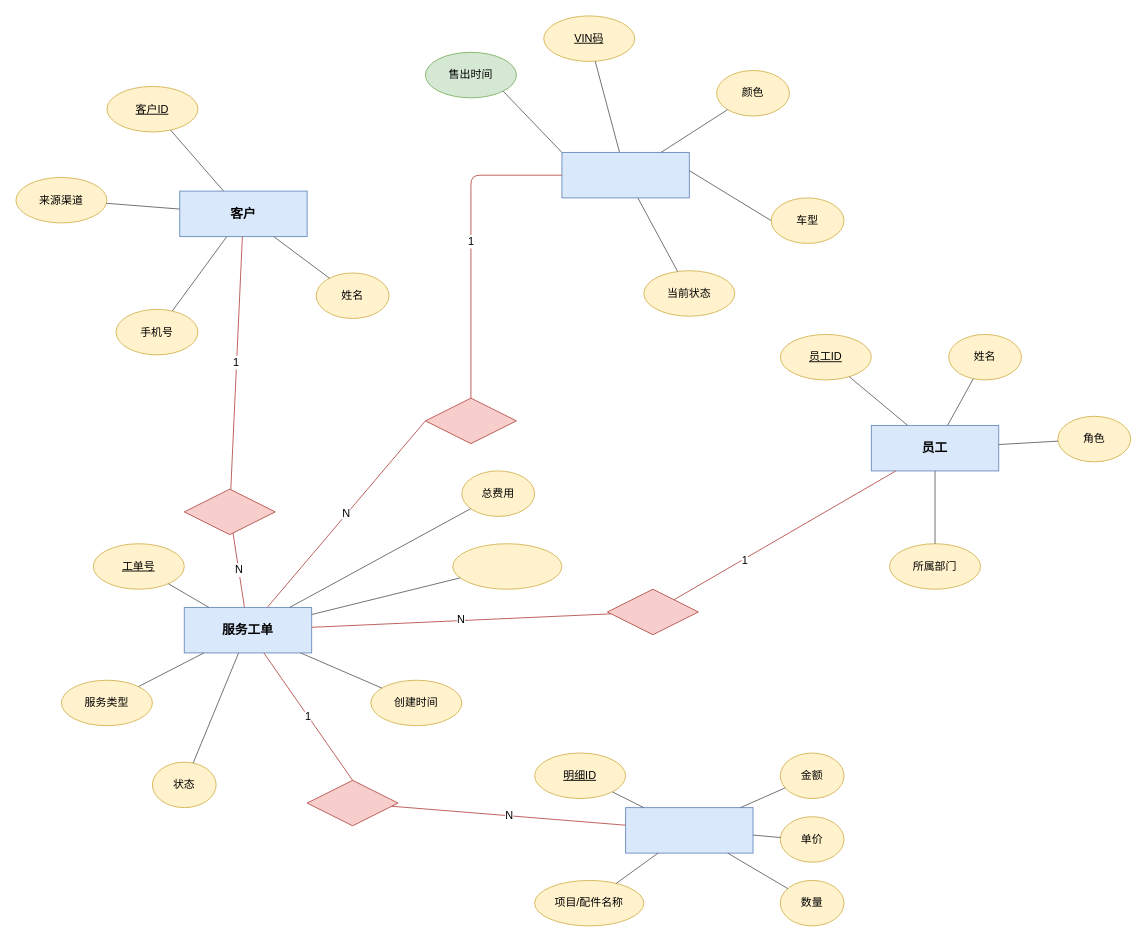
Image size: 1147x942. Some labels were removed from this diagram. The box of each missing label's shape, as (x1, y1, x2, y2) in pixels:
包含: (306, 779, 398, 826)
库存车辆: (561, 152, 689, 198)
服务对象: (425, 397, 516, 444)
服务明细: (625, 807, 753, 853)
请求: (183, 488, 275, 535)
顾问: (607, 588, 698, 635)
预计完成时间: (452, 543, 562, 589)
